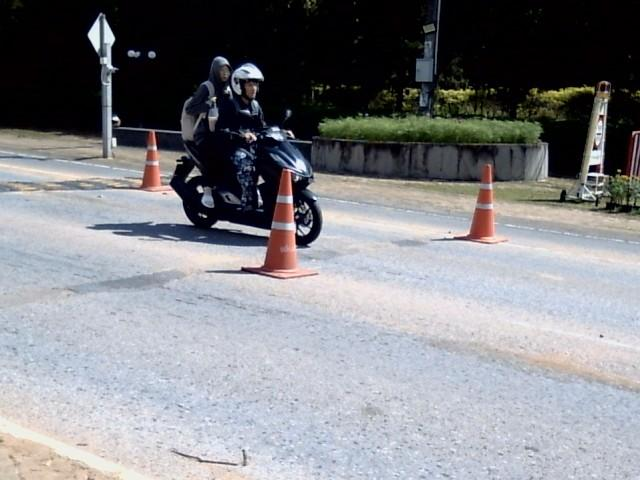helmet: (231, 58, 268, 99)
motor: (170, 126, 322, 244)
no-helmet: (208, 51, 232, 81)
person: (212, 63, 266, 210), (184, 57, 231, 162)
